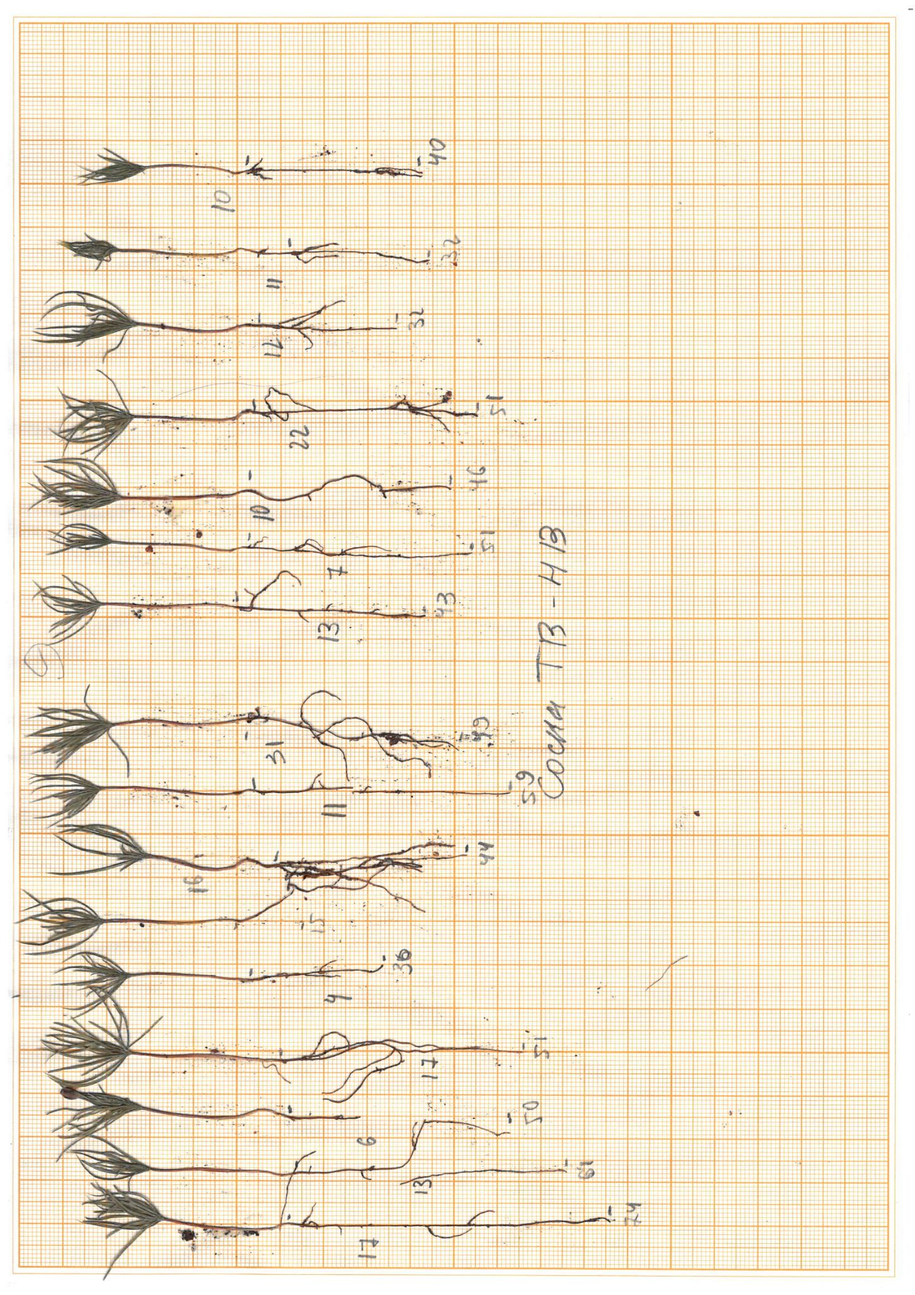Seeding: (43, 1006, 527, 1104), (25, 682, 459, 784), (87, 1179, 622, 1261), (50, 367, 480, 456), (42, 812, 474, 890), (34, 569, 429, 649), (27, 762, 506, 826), (28, 281, 401, 362), (24, 454, 456, 519), (69, 1118, 512, 1180), (16, 878, 299, 956), (46, 515, 488, 564), (58, 950, 391, 1015), (55, 226, 435, 277), (53, 1087, 367, 1148), (75, 139, 427, 193), (404, 1167, 577, 1188)
